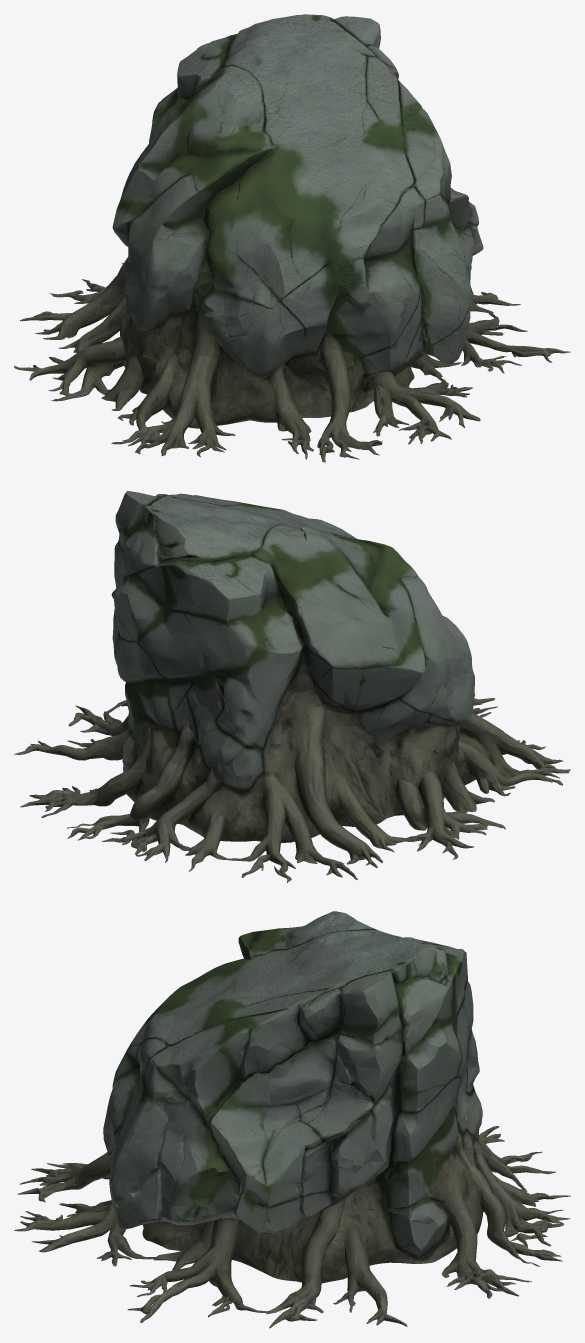
File: forest-rock.glb
3 views of the same model, one above another, from view 1: azimuth 30°, elevation 25°; view 2: azimuth 150°, elevation 25°; view 3: azimuth 270°, elevation 25° (orthographic). The views are drawn at different scales.
Parts seen in each view (by area): view 1: forest-rock-Mesh_0.023; view 2: forest-rock-Mesh_0.023; view 3: forest-rock-Mesh_0.023.
Boxes of the visible parts, left/top/right/bottom form: forest-rock-Mesh_0.023: left=14, top=14, right=570, bottom=462; forest-rock-Mesh_0.023: left=14, top=491, right=570, bottom=882; forest-rock-Mesh_0.023: left=14, top=911, right=570, bottom=1328.
Bounding box in the file's own units: 3.16 × 1.86 × 3.2.
1 material, 1 textured.
